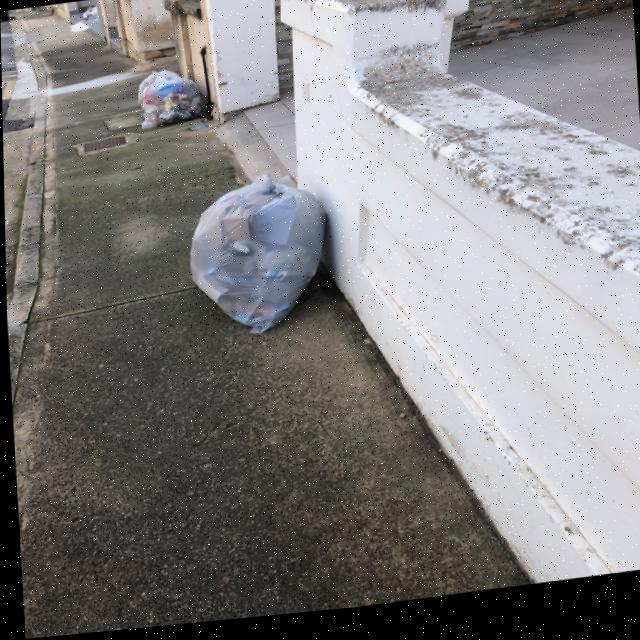Recycled Waste -Grey or Green Bag-: (184, 172, 331, 350), (139, 76, 202, 133), (138, 72, 182, 109)
